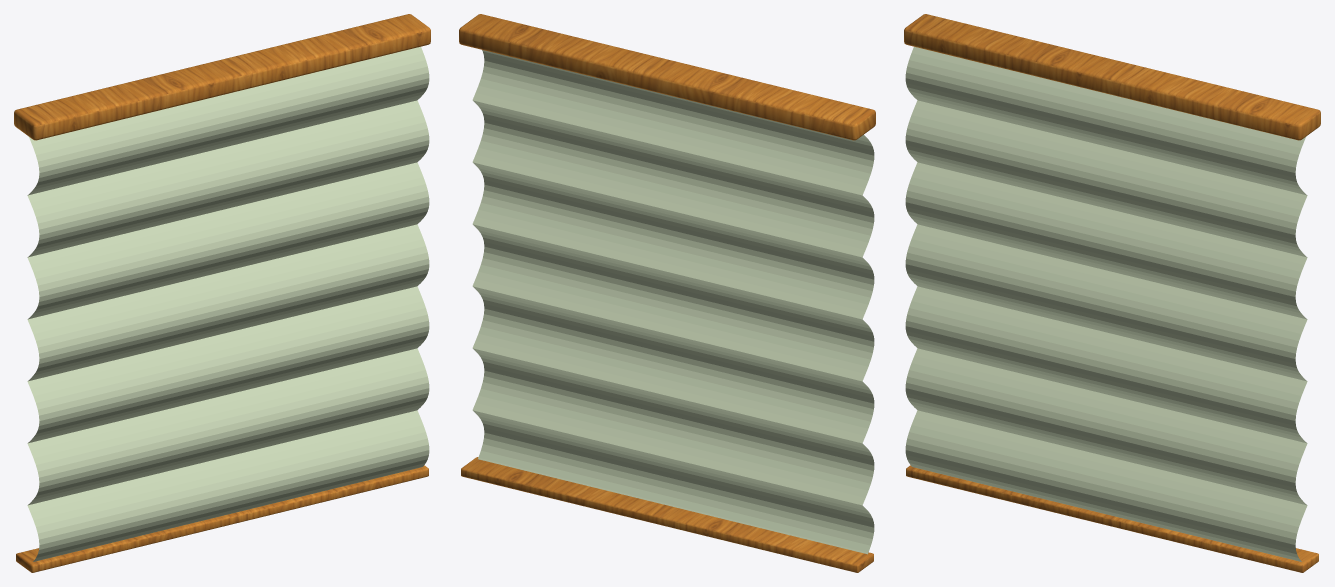
File: blind-roman.glb
3 views of the same model, side by side, from view 1: azimuth 30°, elevation 25°; view 2: azimuth 150°, elevation 25°; view 3: azimuth 330°, elevation 25° (orthographic).
Visible parts, largest first — view 1: blind-roman; view 2: blind-roman; view 3: blind-roman.
Part boxes in pixels (left/top/right/bottom): blind-roman: left=14, top=14, right=430, bottom=572; blind-roman: left=459, top=14, right=875, bottom=572; blind-roman: left=904, top=14, right=1320, bottom=572.
Bounding box in the file's own units: 1.2 × 1.3 × 0.12.
2 materials, 1 textured.
